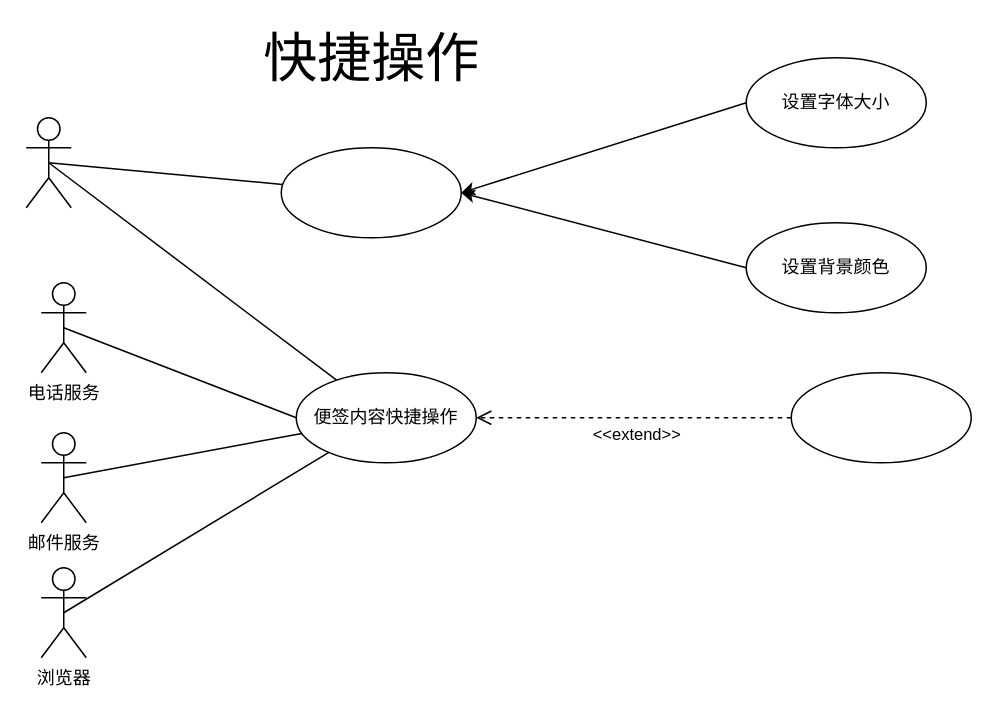
The diagram is 998 pixels wide and 716 high, and some of its shapes have lost their labels. Each missing label, with the box of its shape:
便签内容识别: (790, 371, 971, 463)
用户: (25, 116, 71, 208)
设置便签样式: (280, 146, 461, 238)
